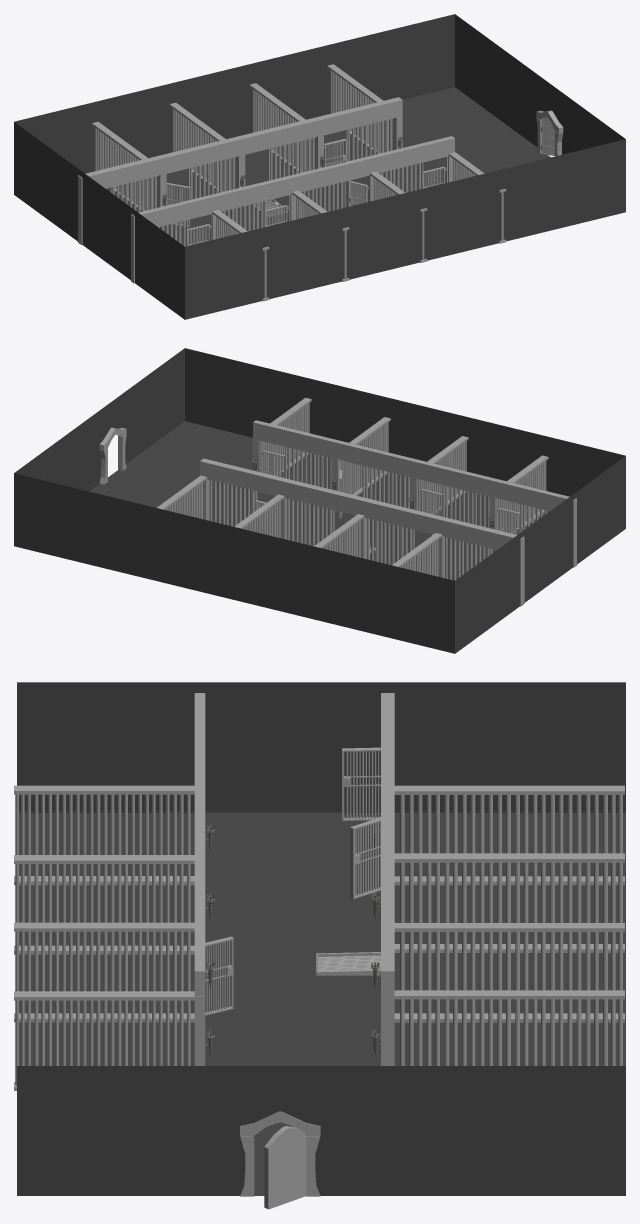
File: Sala01.fbx
3 views of the same model, one above another, from view 1: azimuth 30°, elevation 25°; view 2: azimuth 150°, elevation 25°; view 3: azimuth 270°, elevation 25° (orthographic). The views are drawn at different scales.
Visible parts, largest first — view 1: pPlane2, pCube20 (×2), pCube18 (×2), pCube19 (×2), pCube21 (×2), pCube23 (×4), ArcoPuerta, pPlane3; view 2: pPlane2, pCube19 (×2), pCube20 (×2), pCube18 (×2), pCube21 (×2), ArcoPuerta; view 3: pPlane2, pCube23 (×8), pCube22 (×6), pCube21 (×2), pPlane3, pCube18 (×2), ArcoPuerta, pCube20 (×2), pCube19 (×2).
Part boxes in pixels (<box>): pPlane2: <box>14,14,625,319</box>; pCube20 (×2): <box>209,116,323,240</box>; pCube18 (×2): <box>78,136,454,244</box>; pCube19 (×2): <box>160,135,375,220</box>; pCube21 (×2): <box>131,97,402,283</box>; pCube23 (×4): <box>92,64,396,174</box>; ArcoPuerta: <box>536,110,563,156</box>; pPlane3: <box>542,117,554,155</box>; pPlane2: <box>14,348,625,653</box>; pCube19 (×2): <box>331,440,443,577</box>; pCube20 (×2): <box>278,458,498,545</box>; pCube18 (×2): <box>253,420,524,606</box>; pCube21 (×2): <box>200,458,576,567</box>; ArcoPuerta: <box>99,427,126,484</box>; pPlane2: <box>17,682,625,1195</box>; pCube23 (×8): <box>14,785,624,1000</box>; pCube22 (×6): <box>14,876,624,1022</box>; pCube21 (×2): <box>194,693,394,1065</box>; pPlane3: <box>264,1126,306,1209</box>; pCube18 (×2): <box>194,693,394,1065</box>; ArcoPuerta: <box>240,1111,320,1196</box>; pCube20 (×2): <box>194,760,394,902</box>; pCube19 (×2): <box>194,762,394,902</box>.
Bounding box in the file's own units: 36.4 × 5.62 × 23.67.
